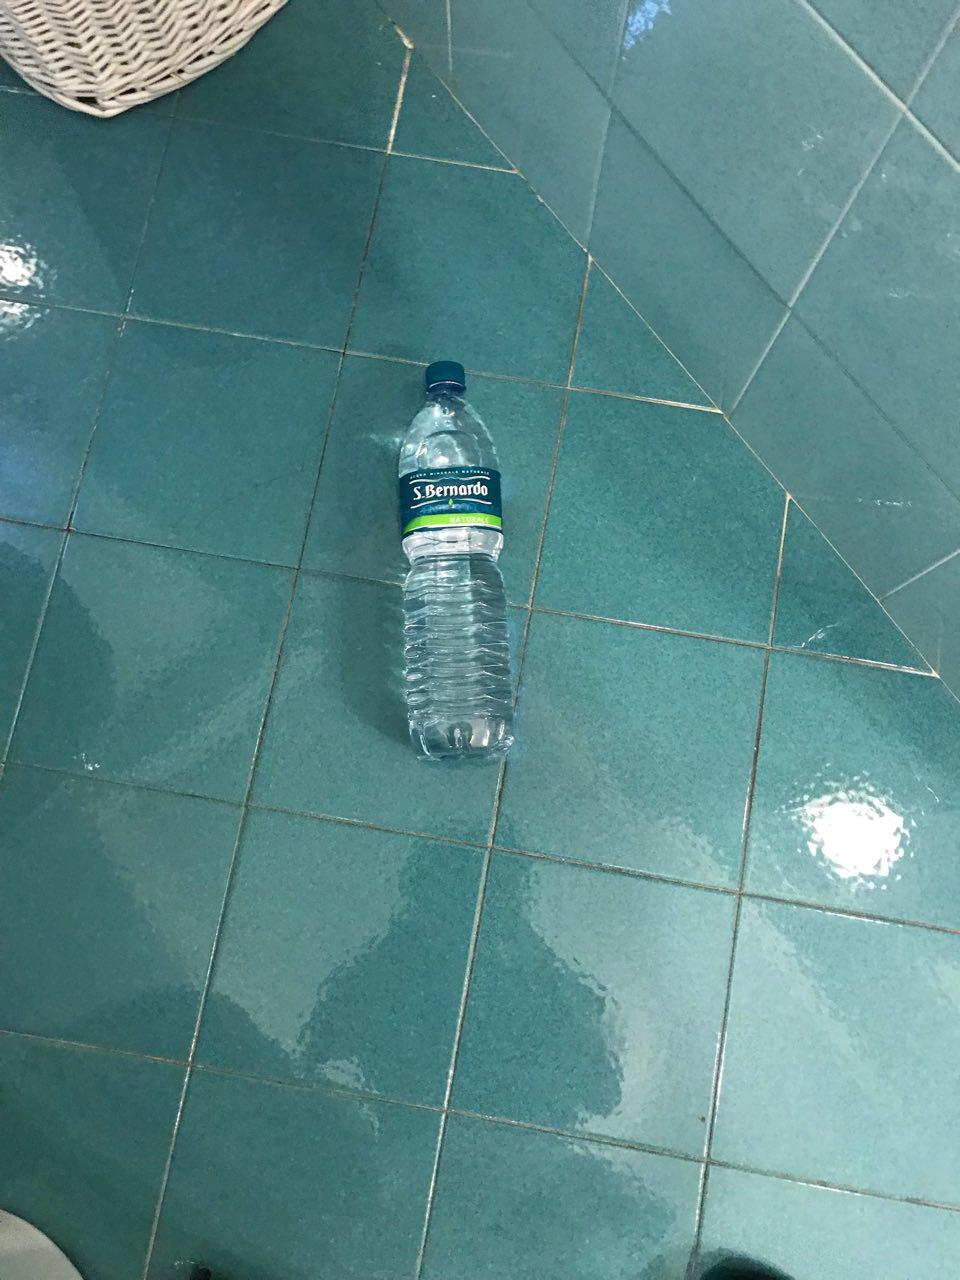san_bernardo: (396, 359, 514, 762)
